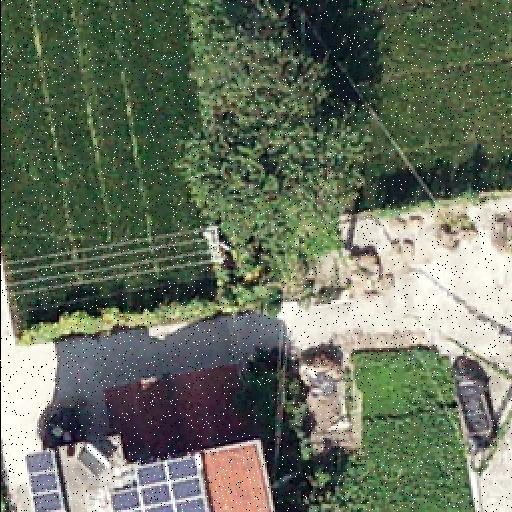solar-panel: (108, 454, 208, 512), (23, 448, 65, 512)
